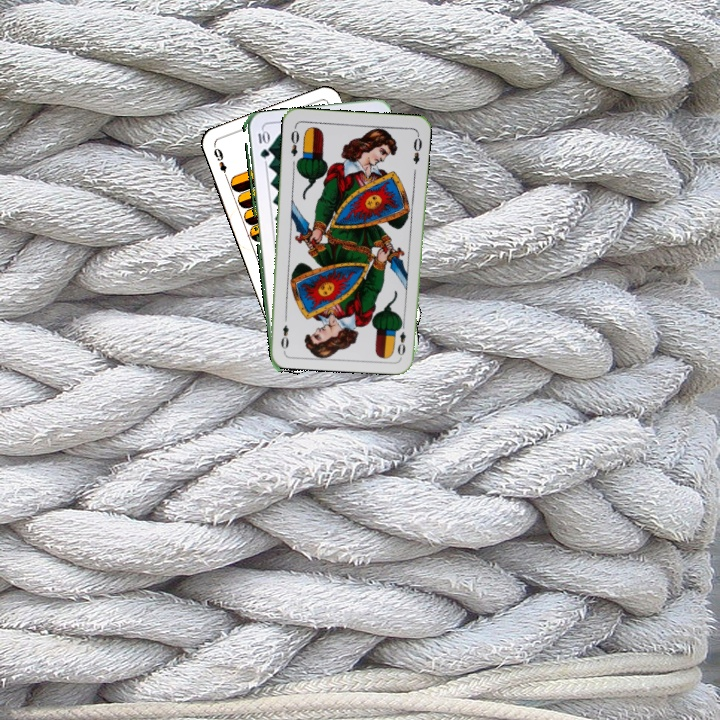E9: (210, 142, 231, 182)
EO: (394, 318, 408, 358), (287, 123, 302, 159)
G10: (254, 126, 270, 161)
